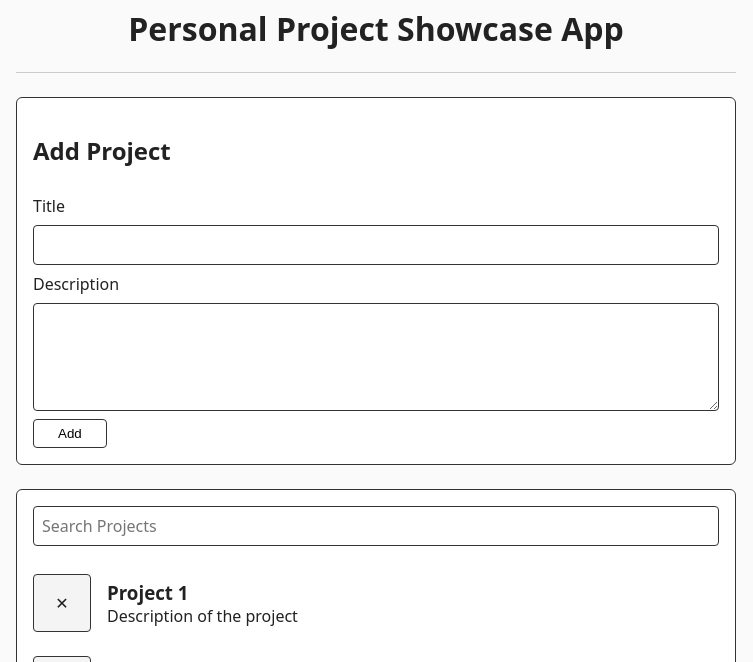
Test: Portfolio App › filters projects by search term
The width and height of the screenshot is (753, 662).
Type "Project 2" into the field with placeholder "Search Projects" at (376, 526), box [33,506,719,546]
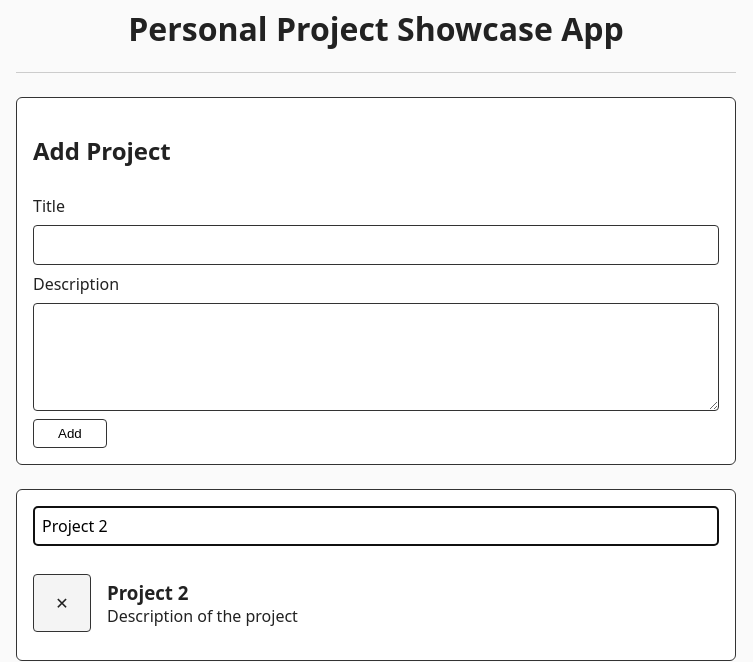
Expected: the heading "Project 2" is shown, [107,580,188,605]
Expected: the heading "Project 1" is gone
